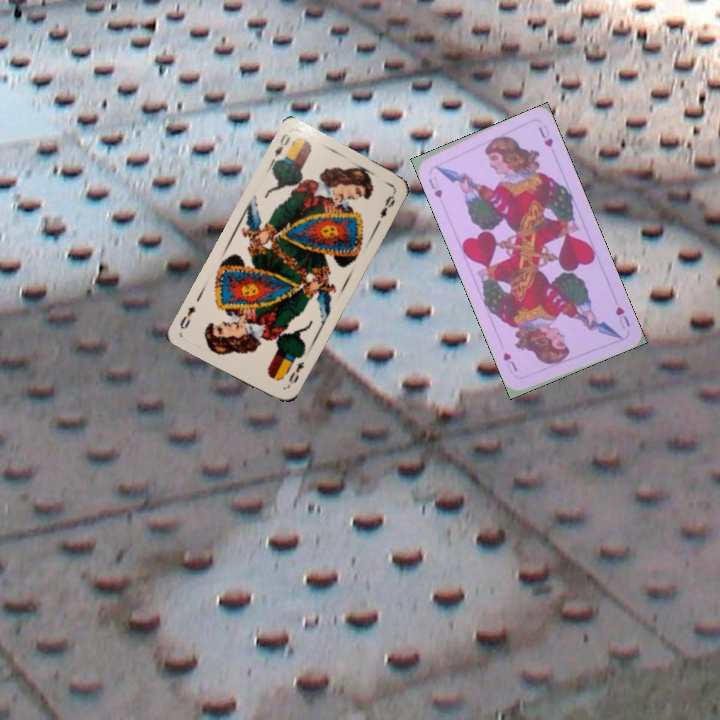EO: (266, 130, 293, 167), (283, 357, 307, 391)
HU: (611, 303, 633, 332), (424, 172, 445, 200)
